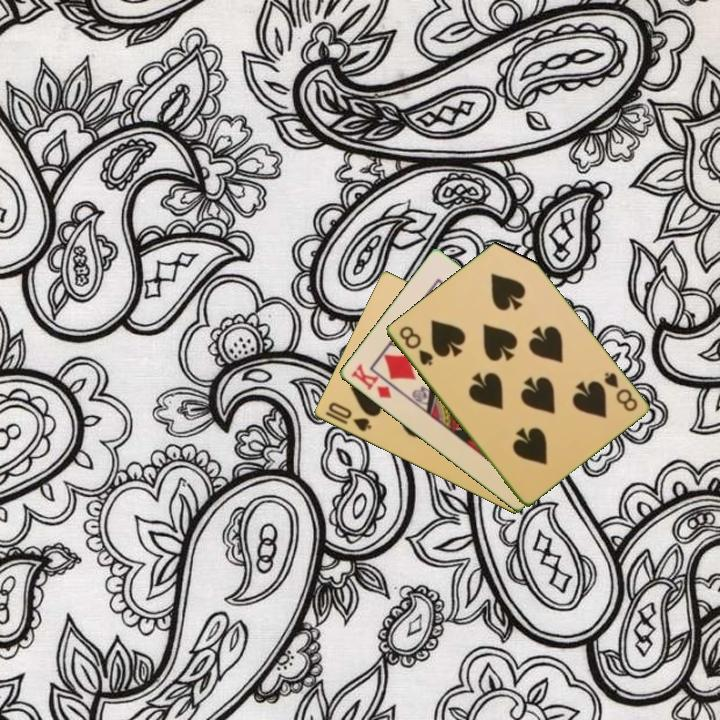10s: (324, 399, 374, 435)
8s: (395, 322, 436, 369), (600, 369, 640, 414)
Kd: (347, 360, 394, 401)
